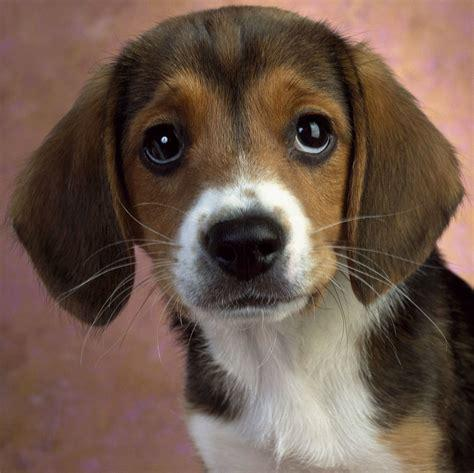dog: (11, 7, 474, 473)
